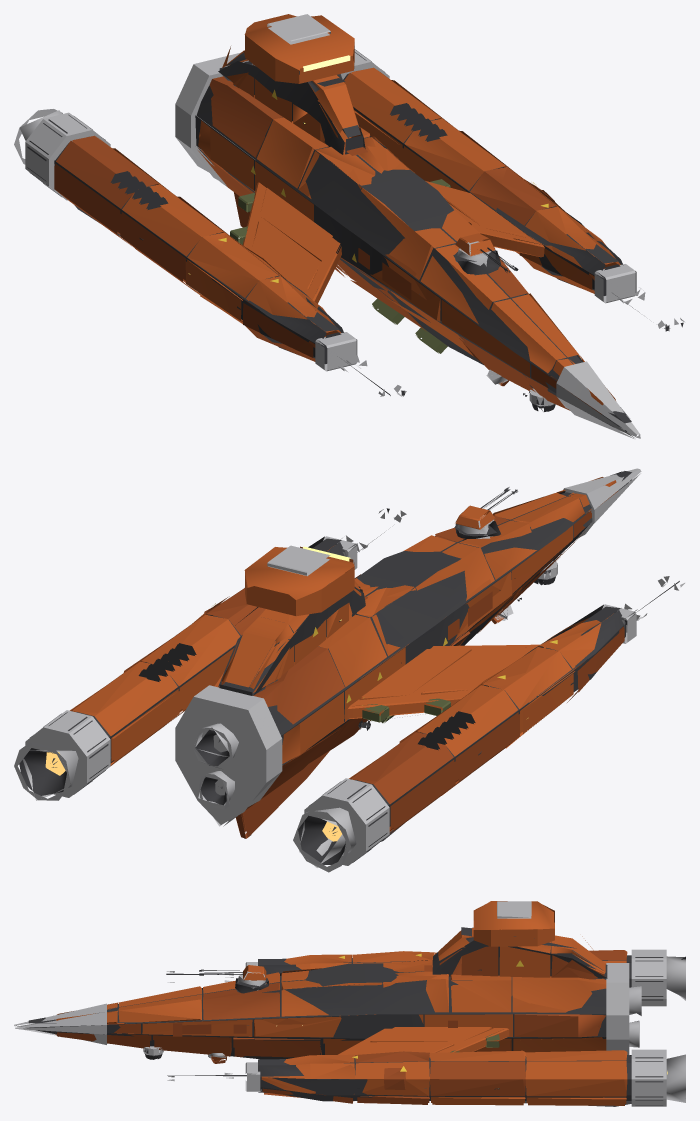
Rendered from enemy_frigate_far.glb.
3 views of the same model, one above another, from view 1: azimuth 30°, elevation 25°; view 2: azimuth 150°, elevation 25°; view 3: azimuth 270°, elevation 25° (orthographic). The views are drawn at different scales.
Visible parts, largest first — view 1: enemy_frigate; view 2: enemy_frigate; view 3: enemy_frigate.
Boxes of the visible parts, x1=… form: enemy_frigate: x1=14, y1=14, x2=684, y2=438; enemy_frigate: x1=14, y1=468, x2=684, y2=872; enemy_frigate: x1=14, y1=901, x2=685, y2=1106.
Bounding box in the file's own units: 24.97 × 16.84 × 57.76.
